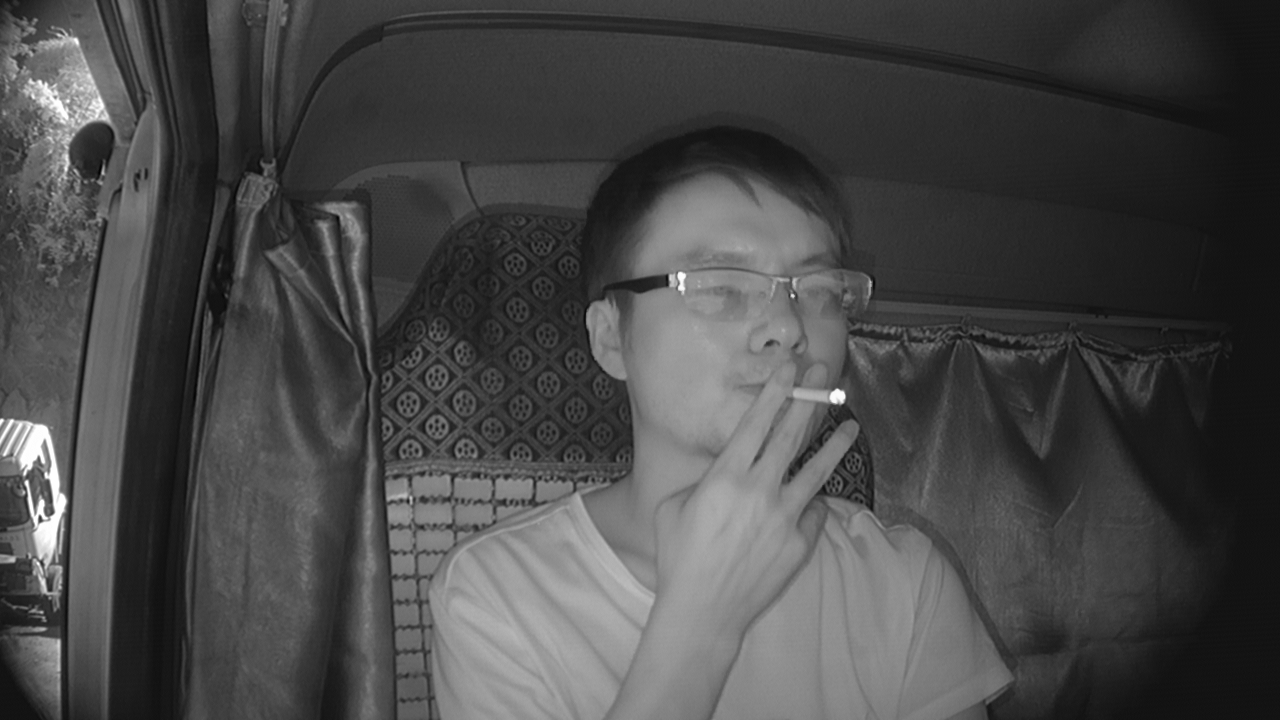hand: (701, 363, 862, 562)
